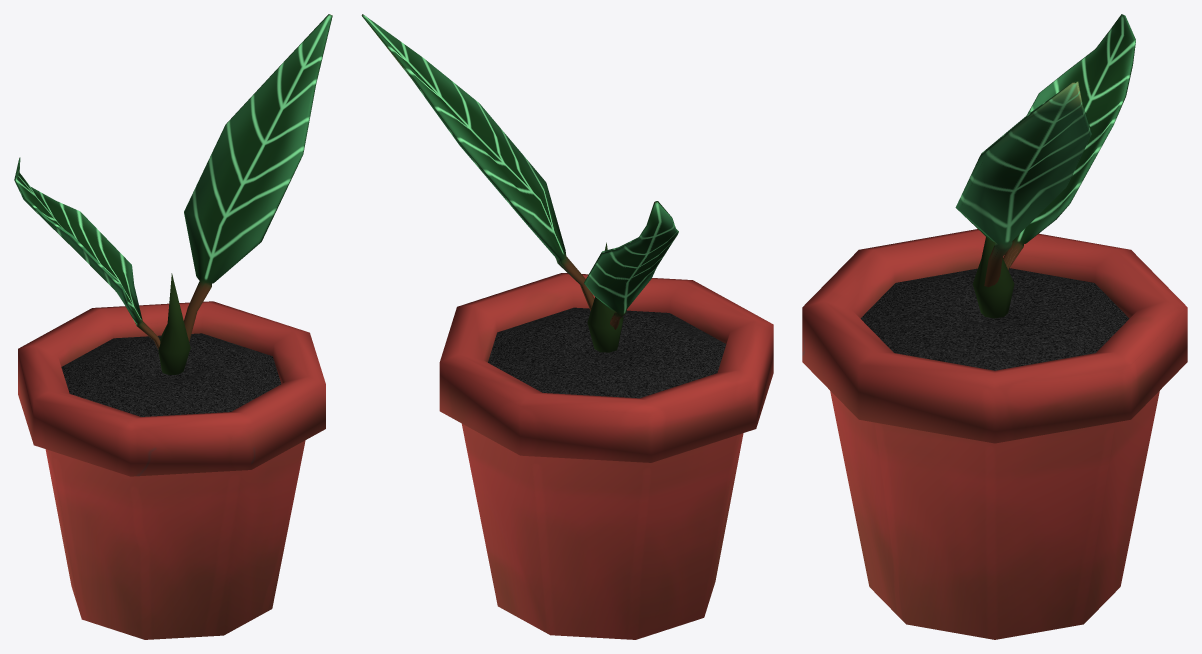
The model's file is SmallPlantInPot-1 1.fbx.
3 renders of one model, left to right at view 1: azimuth 30°, elevation 25°; view 2: azimuth 150°, elevation 25°; view 3: azimuth 270°, elevation 25°, orthographic. The views are drawn at different scales.
Parts seen in each view (by area): view 1: PlantPot.001, Leaf-Large-1.001, Leaf-Large-4.001, Sprout; view 2: PlantPot.001, Leaf-Large-1.001, Leaf-Large-4.001, Sprout; view 3: PlantPot.001, Leaf-Large-1.001, Leaf-Large-4.001, Sprout.
Boxes of the visible parts, box(x1,y1,x2,y2) form: PlantPot.001: box(18, 301, 325, 639); Leaf-Large-1.001: box(184, 14, 332, 341); Leaf-Large-4.001: box(14, 157, 160, 349); Sprout: box(158, 273, 190, 375); PlantPot.001: box(439, 273, 773, 639); Leaf-Large-1.001: box(361, 14, 594, 310); Leaf-Large-4.001: box(584, 201, 678, 329); Sprout: box(587, 242, 623, 352); PlantPot.001: box(802, 229, 1187, 639); Leaf-Large-1.001: box(955, 81, 1091, 287); Leaf-Large-4.001: box(1003, 14, 1135, 269); Sprout: box(973, 237, 1014, 318).
Size of the model in its own units: 209 by 309 by 174.
5 materials, 4 textured.
